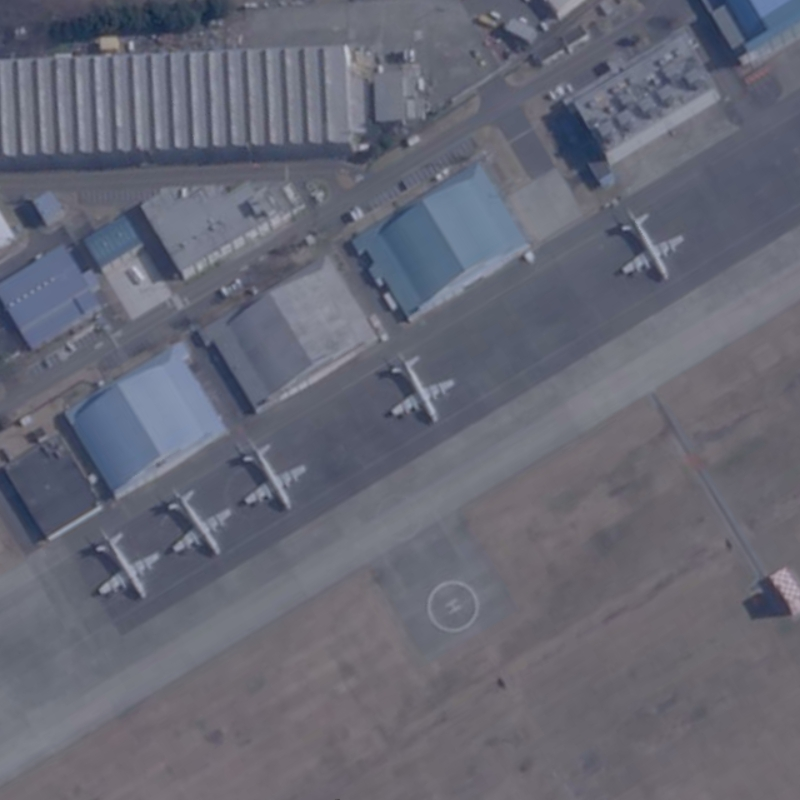A9: (604, 199, 691, 286), (378, 345, 460, 428), (233, 433, 310, 517), (86, 520, 163, 604), (160, 482, 235, 560)
